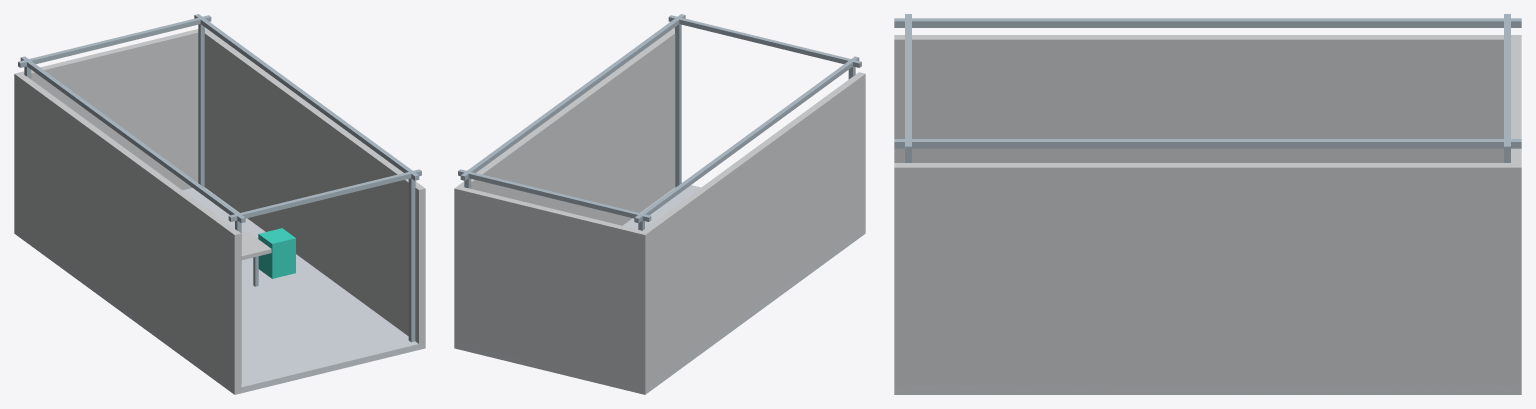
3 renders of one model, left to right at view 1: azimuth 30°, elevation 25°; view 2: azimuth 150°, elevation 25°; view 3: azimuth 270°, elevation 25°, orthographic. The views are drawn at different scales.
Visible parts, largest first — view 1: Exhibition Booth Concept; view 2: Exhibition Booth Concept; view 3: Exhibition Booth Concept.
Boxes of the visible parts, <box> form: Exhibition Booth Concept: <box>14,14,425,394</box>; Exhibition Booth Concept: <box>454,14,865,394</box>; Exhibition Booth Concept: <box>894,14,1521,394</box>.
Size of the model in its own units: 4 by 3.49 by 8.
